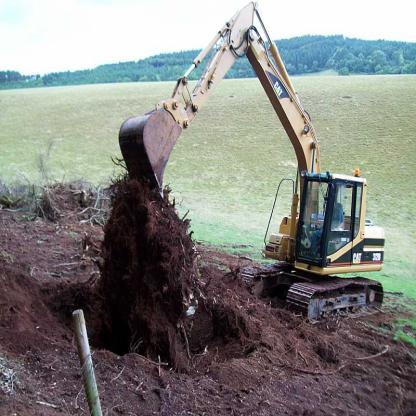excavator: (108, 2, 392, 332)
